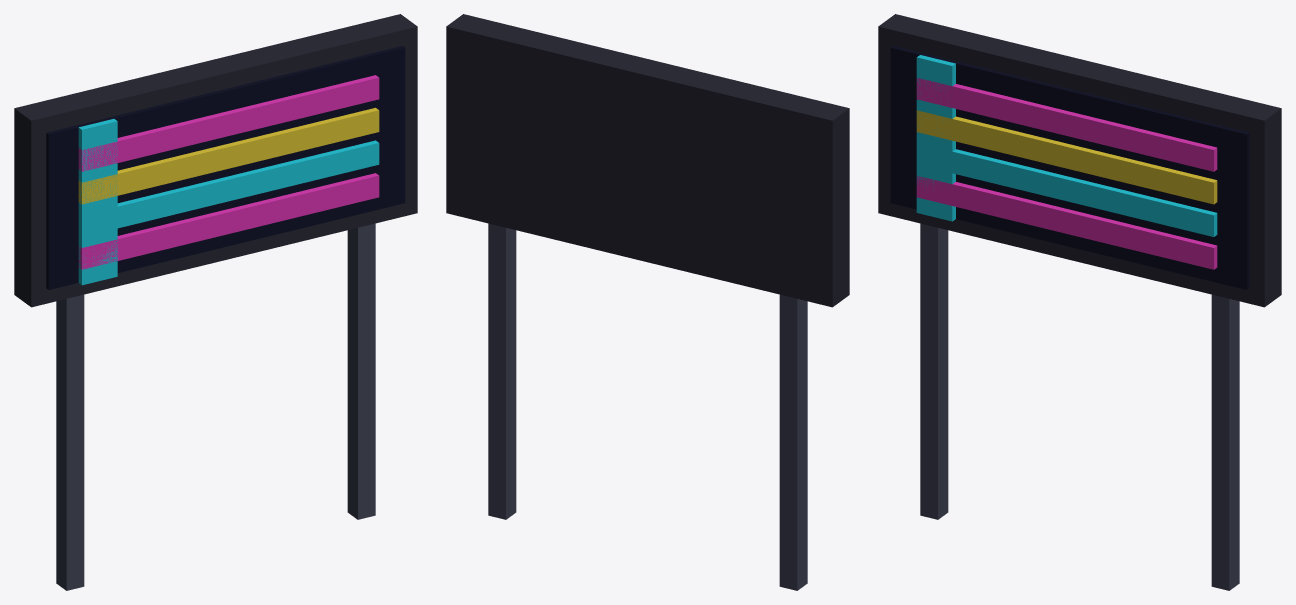
Rendered from neon_billboard.glb.
3 renders of one model, left to right at view 1: azimuth 30°, elevation 25°; view 2: azimuth 150°, elevation 25°; view 3: azimuth 330°, elevation 25°, orthographic.
Visible parts, largest first — view 1: neon_billboard; view 2: neon_billboard; view 3: neon_billboard.
Part boxes in pixels (box(x1,y1,x2,y2)): neon_billboard: box(14, 14, 417, 590); neon_billboard: box(446, 14, 849, 590); neon_billboard: box(878, 14, 1281, 590).
Bounding box in the file's own units: 1.3 × 1.55 × 0.135.
